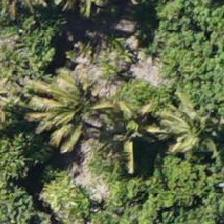coconut_tree: (79, 76, 169, 166), (19, 63, 109, 153)
